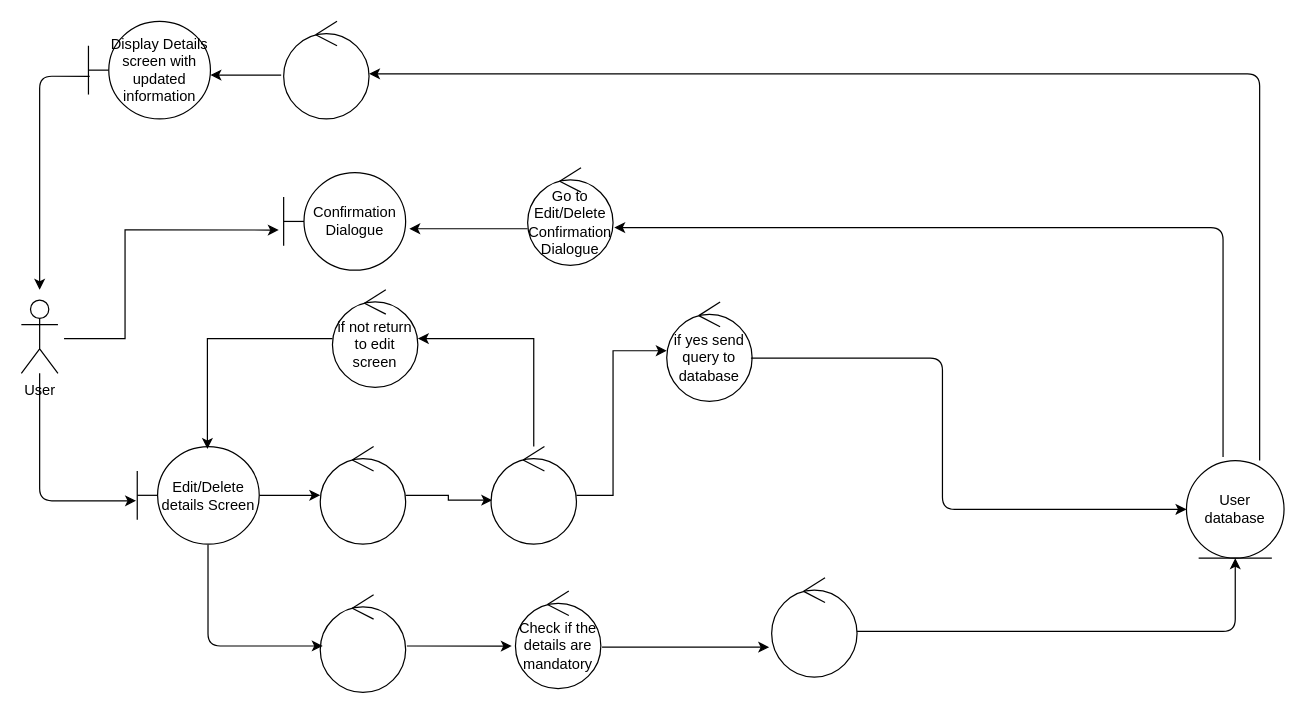
Some shapes in this 1305 by 714 pixel diagram are drawn without their labels. Here are the shapes that lost their labels. From the top down, the centre of each, then its label:
At (x=325, y=69): "Details changed".
At (x=362, y=494): "Check which results to edit".
At (x=533, y=494): "Check if entered data is valid".
At (x=362, y=643): "Check which details to delete".
At (x=813, y=626): "if not send query to database".
